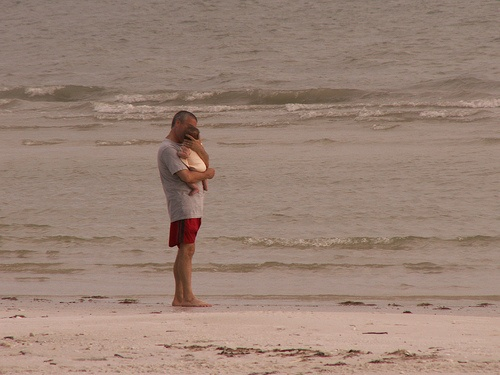head: (170, 111, 198, 144)
person: (157, 108, 214, 307)
